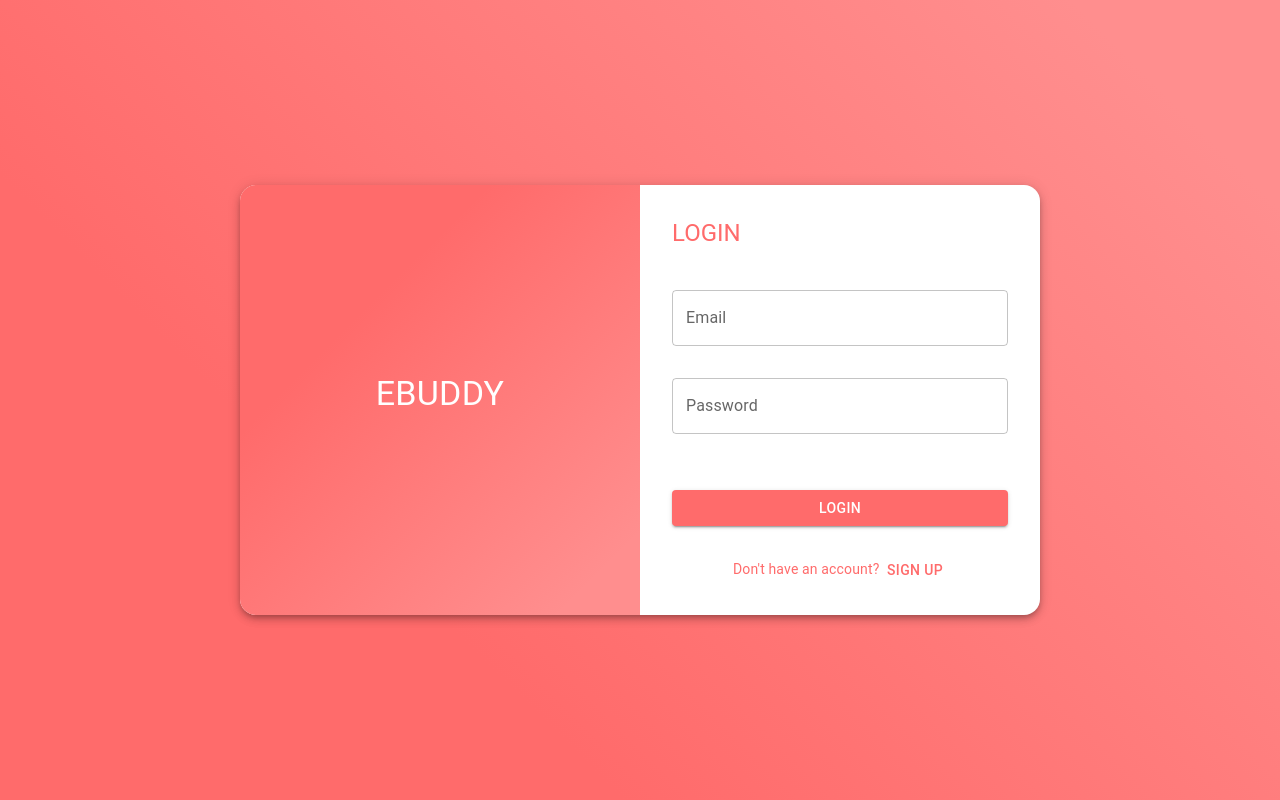
Test: LoginPage › displays an error if email or password is empty
Click the button "LOGIN" at (840, 508), box [672, 490, 1008, 526]
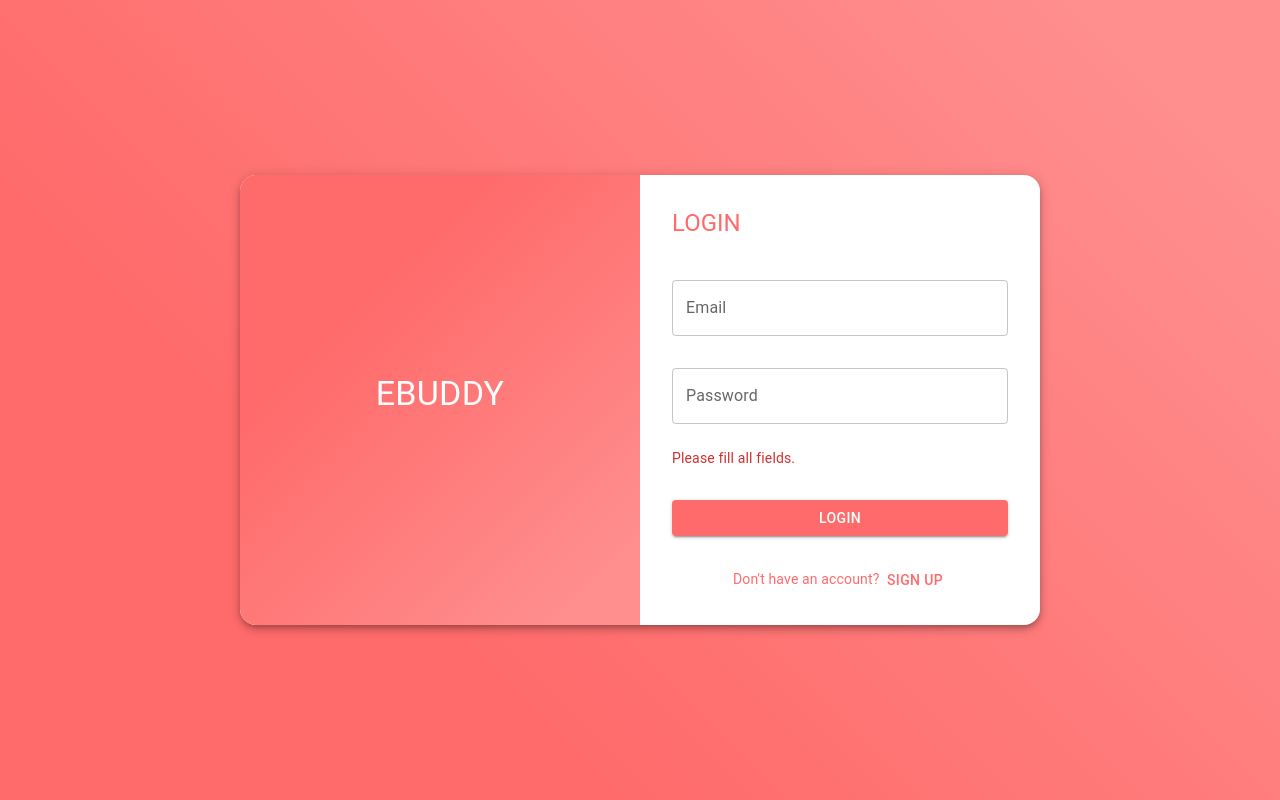
Check: the text "Please fill all fields." is shown, box [672, 450, 795, 466]
